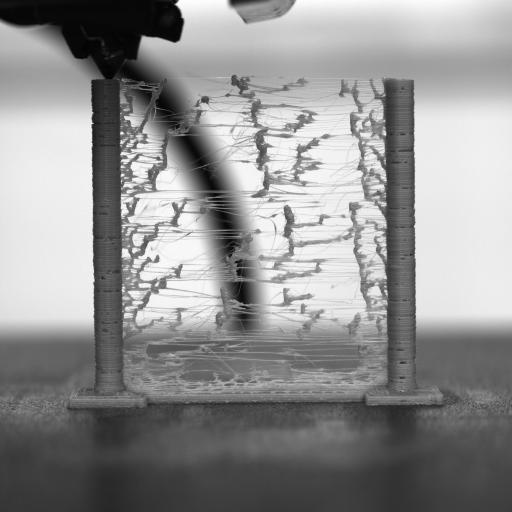spaghetti_and_stringing: (118, 79, 386, 391)
